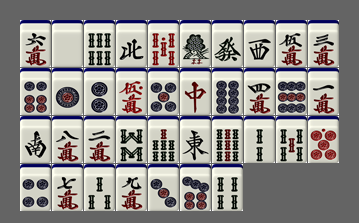0m: (116, 68, 147, 115)
0p: (308, 116, 339, 163)
0s: (148, 20, 179, 67)
1m: (308, 68, 339, 115)
1p: (52, 68, 83, 115)
1s: (180, 20, 211, 67)
1z: (180, 116, 211, 163)
2m: (84, 116, 115, 163)
2p: (84, 68, 115, 115)
2s: (244, 116, 275, 163)
2z: (20, 116, 51, 163)
3m: (308, 20, 339, 67)
3p: (148, 164, 179, 211)
3s: (84, 164, 115, 211)
3z: (244, 20, 275, 67)
4m: (244, 68, 275, 115)
4p: (20, 164, 51, 211)
4s: (212, 164, 243, 211)
4z: (116, 20, 147, 67)
5m: (276, 20, 307, 67)
5p: (148, 68, 179, 115)
5s: (276, 116, 307, 163)
5z: (52, 20, 83, 67)
6m: (20, 20, 51, 67)
6p: (20, 68, 51, 115)
6s: (84, 20, 115, 67)
6z: (212, 20, 243, 67)
7m: (52, 164, 83, 211)
7p: (180, 164, 211, 211)
7s: (148, 116, 179, 163)
7z: (180, 68, 211, 115)
8m: (52, 116, 83, 163)
8p: (212, 68, 243, 115)
8s: (116, 116, 147, 163)
9m: (116, 164, 147, 211)
9p: (276, 68, 307, 115)
9s: (212, 116, 243, 163)
